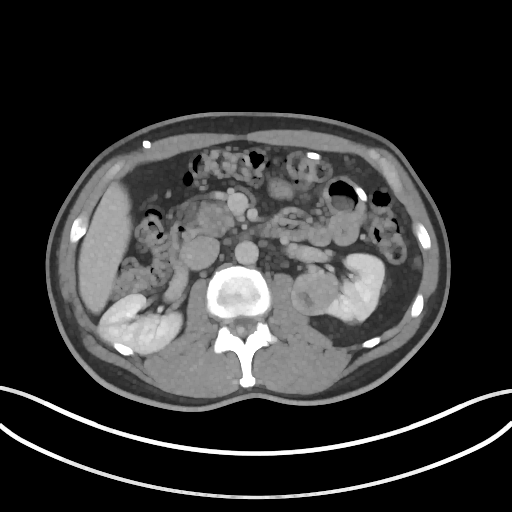Lesion: (287, 269, 342, 318)
